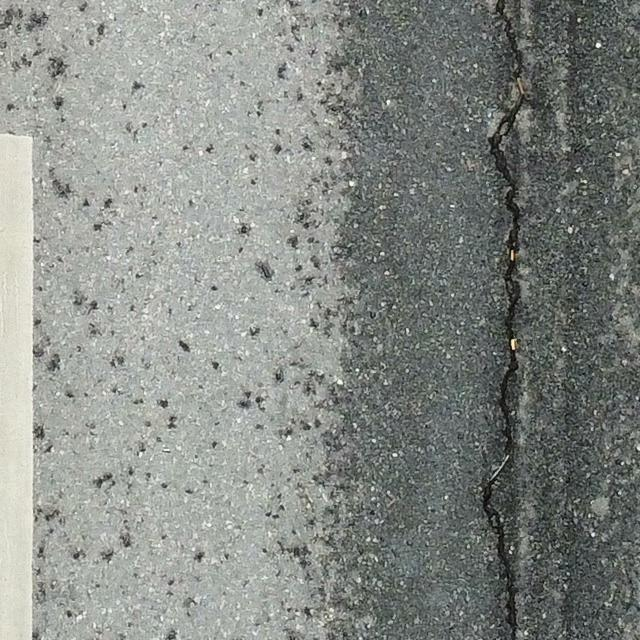LongitudinalCrack: (480, 1, 524, 640)
